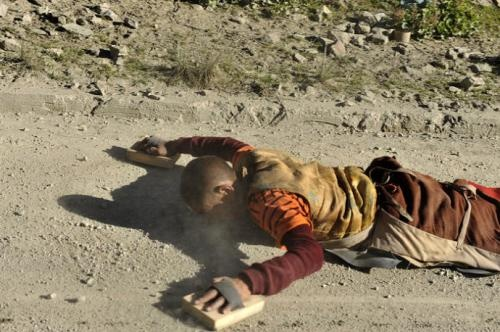falling: (150, 120, 497, 318)
